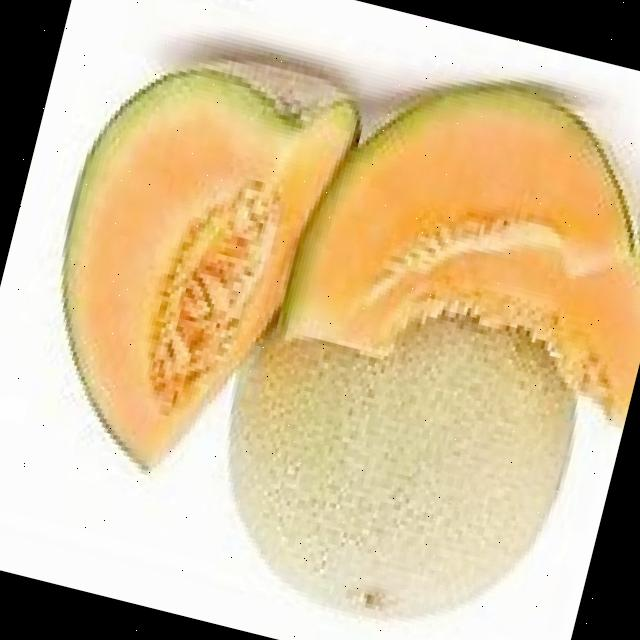Hami Melon: (11, 22, 368, 499), (189, 260, 595, 640), (271, 46, 640, 423)
